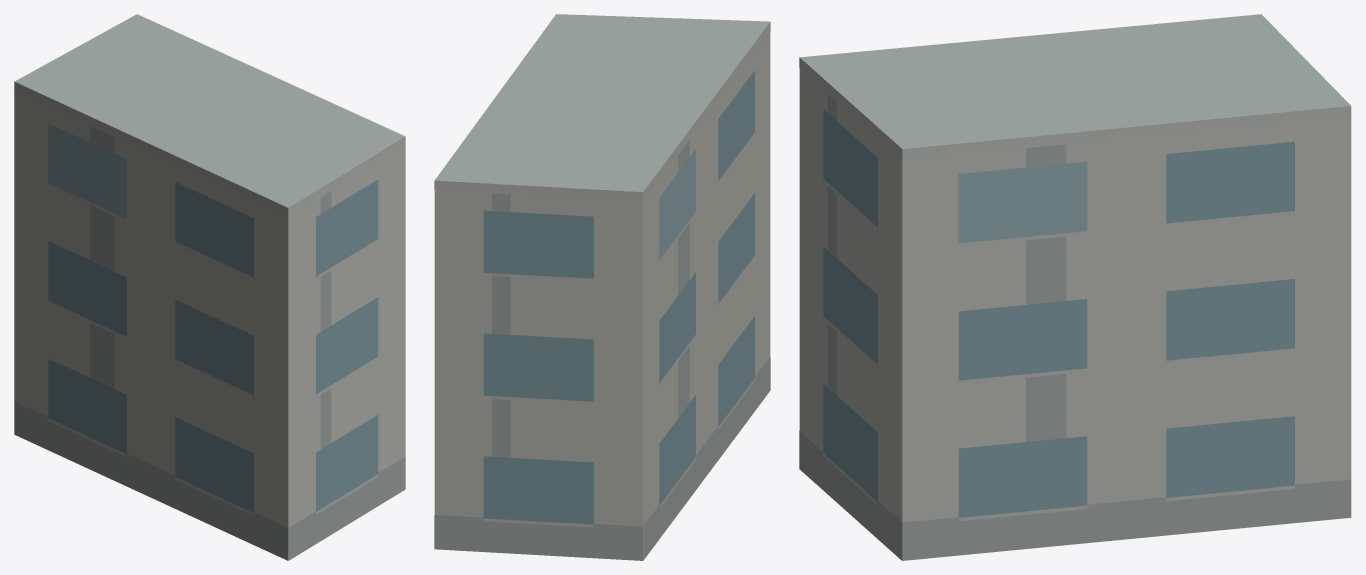
File: survey-upis-32503040.glb
The picture shows the model from 3 angles, left to right: view 1: azimuth 30°, elevation 25°; view 2: azimuth 150°, elevation 25°; view 3: azimuth 270°, elevation 25°; orthographic projection. The views are drawn at different scales.
Parts seen in each view (by area): view 1: survey-upis-32503040.tmp; view 2: survey-upis-32503040.tmp; view 3: survey-upis-32503040.tmp.
Part boxes in pixels (<box>): survey-upis-32503040.tmp: <box>14,14,405,560</box>; survey-upis-32503040.tmp: <box>434,14,770,560</box>; survey-upis-32503040.tmp: <box>799,14,1351,560</box>.
Size of the model in its own units: 6.45 by 9.15 by 11.12.
